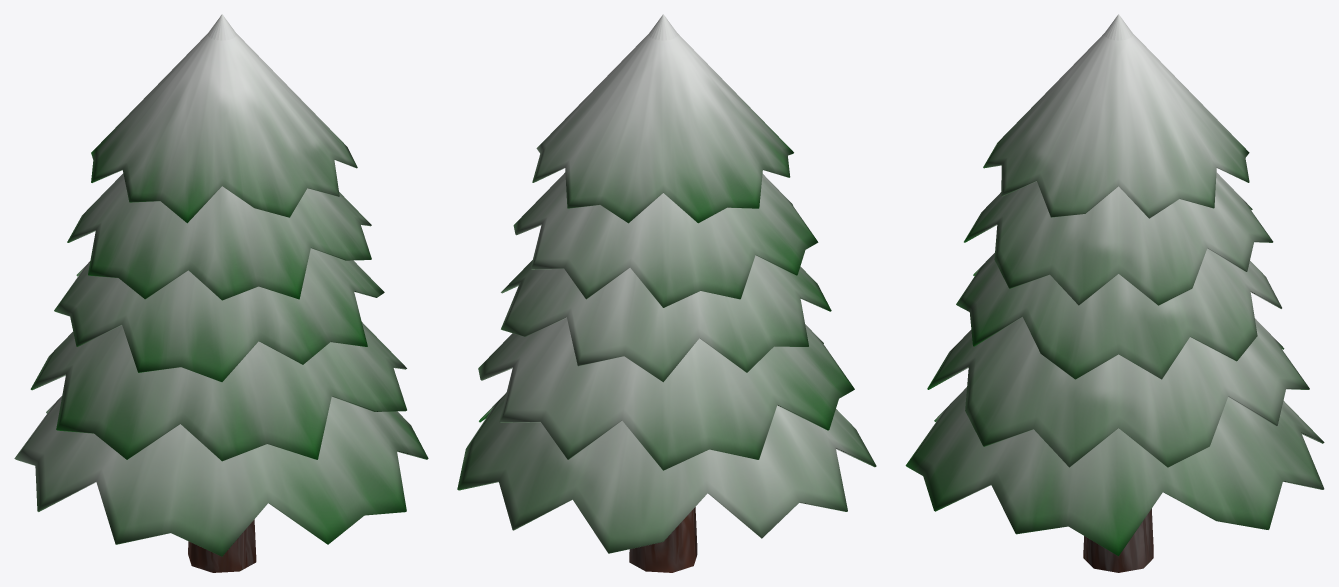
The model's file is PineTree.fbx.
3 renders of one model, left to right at view 1: azimuth 30°, elevation 25°; view 2: azimuth 150°, elevation 25°; view 3: azimuth 270°, elevation 25°, orthographic.
Visible parts, largest first — view 1: Cylinder.002, Cylinder.006, Cylinder.003, Cylinder.004, Cylinder.005, Cylinder; view 2: Cylinder.002, Cylinder.003, Cylinder.006, Cylinder.005, Cylinder.004, Cylinder; view 3: Cylinder.002, Cylinder.006, Cylinder.003, Cylinder.005, Cylinder.004, Cylinder.
Part boxes in pixels (x1,y1,x2,y2): Cylinder.002: (14, 396, 428, 556); Cylinder.006: (91, 14, 357, 223); Cylinder.003: (30, 322, 406, 461); Cylinder.004: (54, 248, 384, 381); Cylinder.005: (67, 173, 371, 300); Cylinder: (188, 519, 256, 572); Cylinder.002: (457, 392, 876, 553); Cylinder.003: (478, 318, 854, 470); Cylinder.006: (532, 14, 793, 223); Cylinder.005: (513, 172, 818, 307); Cylinder.004: (501, 255, 831, 382); Cylinder: (629, 507, 697, 572); Cylinder.002: (905, 387, 1324, 556); Cylinder.006: (983, 14, 1249, 218); Cylinder.003: (927, 317, 1309, 467); Cylinder.005: (964, 172, 1273, 305); Cylinder.004: (956, 248, 1281, 379); Cylinder: (1083, 508, 1153, 572).
Size of the model in its own units: 498 by 702 by 490.
